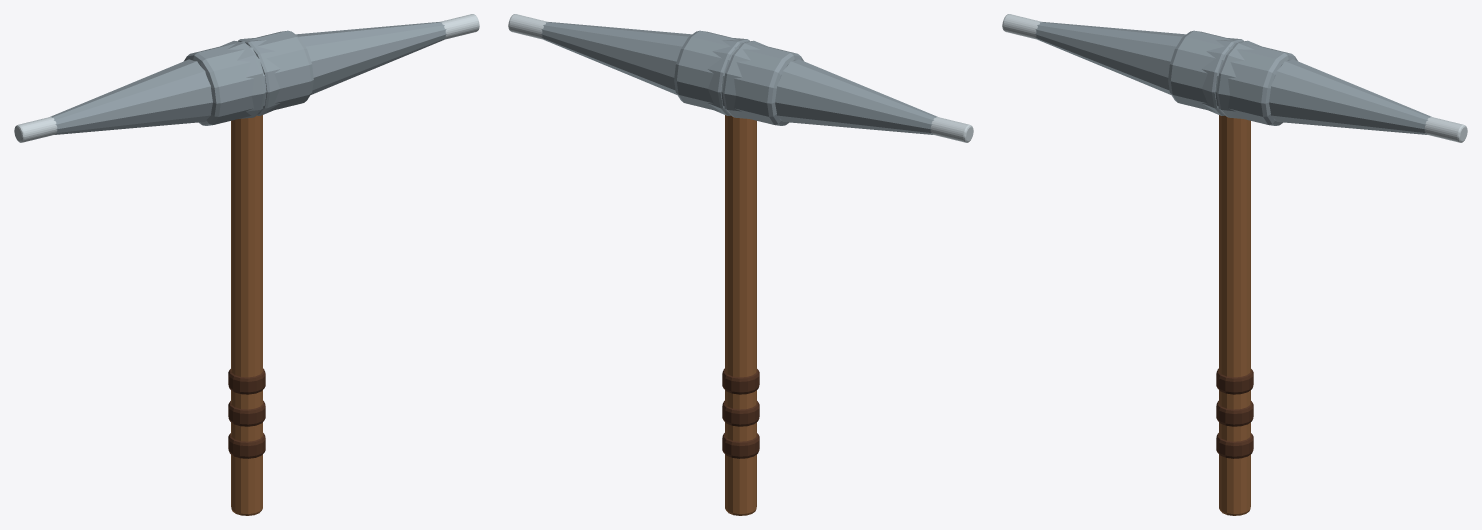
Rendered from pickaxe.glb.
3 views of the same model, side by side, from view 1: azimuth 30°, elevation 25°; view 2: azimuth 150°, elevation 25°; view 3: azimuth 330°, elevation 25° (orthographic).
Visible parts, largest first — view 1: Continuous hickory haft, Left tapered mining pick, Right tapered mining pick, Pick head eye, Left hardened tip, Leather wrap.002, Leather wrap, Leather wrap.001, Right hardened tip; view 2: Continuous hickory haft, Left tapered mining pick, Right tapered mining pick, Pick head eye, Left hardened tip, Leather wrap.002, Leather wrap, Leather wrap.001, Right hardened tip; view 3: Continuous hickory haft, Right tapered mining pick, Left tapered mining pick, Pick head eye, Right hardened tip, Leather wrap.002, Leather wrap, Leather wrap.001, Left hardened tip.
Boxes of the visible parts, x1,y1,x2,y2 form: Continuous hickory haft: (231, 115, 262, 515); Left tapered mining pick: (50, 40, 265, 134); Right tapered mining pick: (238, 22, 446, 115); Pick head eye: (184, 30, 313, 125); Left hardened tip: (14, 116, 57, 142); Leather wrap.002: (228, 368, 265, 394); Leather wrap: (228, 433, 265, 458); Leather wrap.001: (228, 400, 265, 426); Right hardened tip: (440, 14, 479, 39); Continuous hickory haft: (725, 115, 756, 515); Left tapered mining pick: (722, 40, 937, 134); Right tapered mining pick: (541, 22, 749, 115); Pick head eye: (674, 30, 803, 125); Left hardened tip: (930, 116, 973, 142); Leather wrap.002: (722, 368, 759, 394); Leather wrap: (722, 433, 759, 458); Leather wrap.001: (722, 400, 759, 426); Right hardened tip: (508, 14, 547, 39); Continuous hickory haft: (1219, 115, 1250, 515); Right tapered mining pick: (1216, 40, 1431, 134); Left tapered mining pick: (1035, 22, 1243, 115); Pick head eye: (1168, 30, 1297, 125); Right hardened tip: (1424, 116, 1467, 142); Leather wrap.002: (1216, 368, 1253, 394); Leather wrap: (1216, 433, 1253, 458); Leather wrap.001: (1216, 400, 1253, 426); Left hardened tip: (1002, 14, 1041, 39).
Bounding box in the file's own units: 1.64 × 1.6 × 0.2467.
